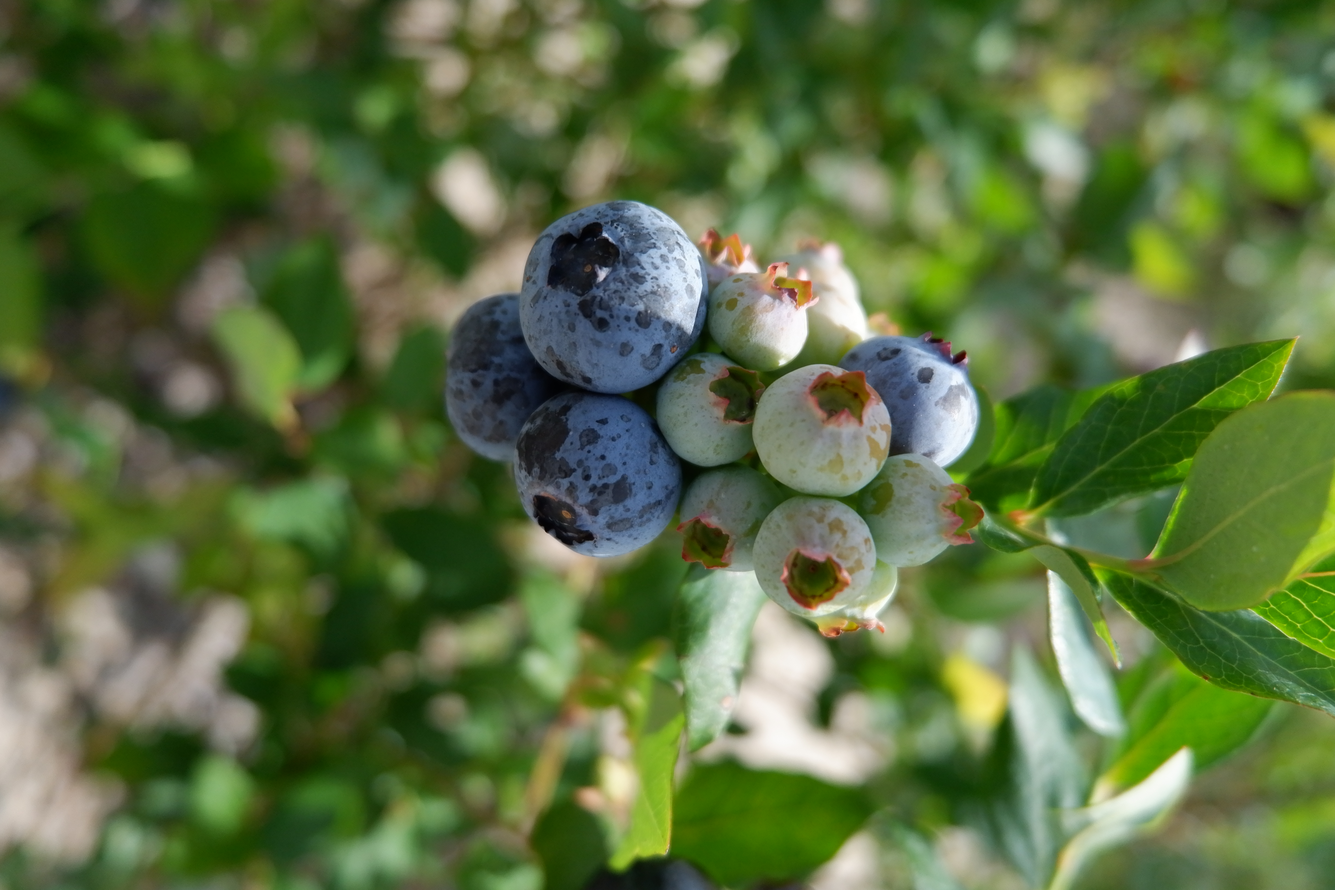Immature: (757, 369, 888, 495), (756, 500, 874, 615), (855, 459, 980, 564), (676, 467, 787, 572), (659, 357, 756, 463), (711, 267, 811, 369), (787, 245, 865, 364), (813, 561, 895, 634), (696, 227, 763, 307)
Mature: (525, 205, 703, 387), (513, 398, 676, 554), (446, 295, 567, 458), (842, 337, 979, 463)
